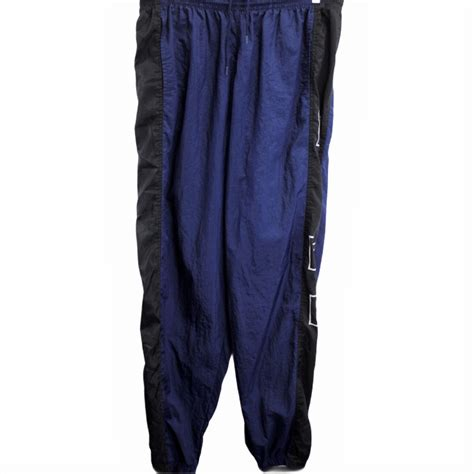nylon: (135, 1, 344, 474)
